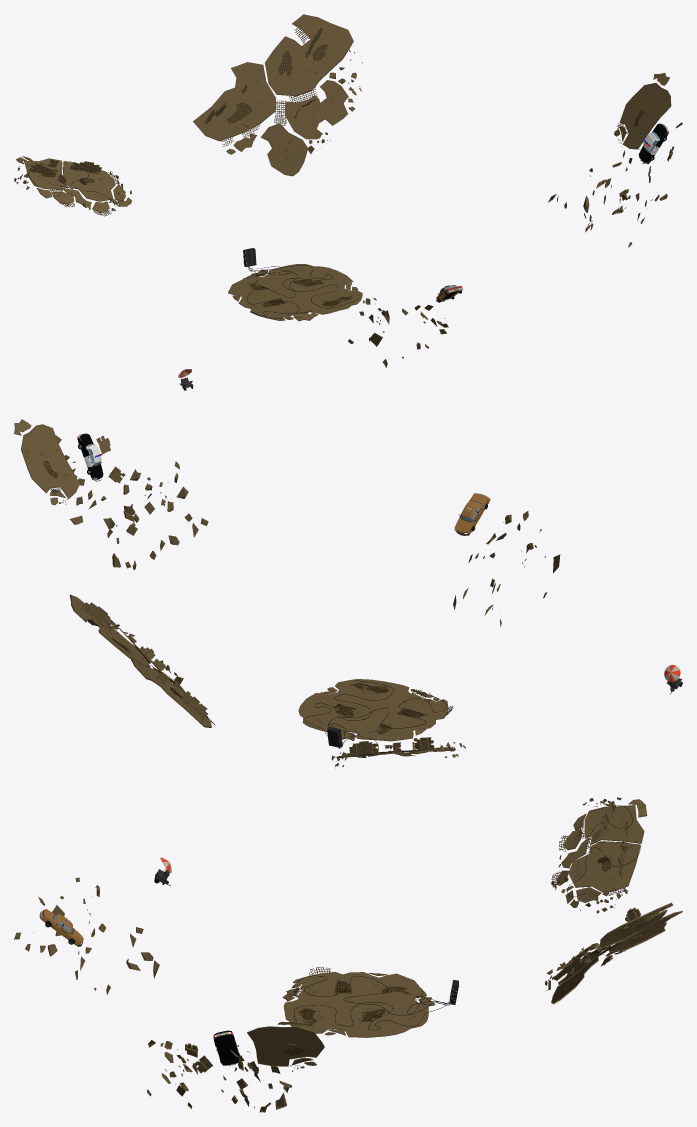
The model's file is scorpion_platform.glb.
The picture shows the model from 3 angles, top to bottom: view 1: azimuth 30°, elevation 25°; view 2: azimuth 150°, elevation 25°; view 3: azimuth 270°, elevation 25°; orthographic projection. The views are drawn at different scales.
Parts seen in each view (by area): view 1: Plane, Plane.001, Plane.002, Plane.161, Plane.003, Plane.012, Plane.005, Cube.024, Cube.018, Popo.001; view 2: Plane, Plane.012, Cube.024, Plane.001, Taxi, Plane.002, Popo.001, Cube.018; view 3: Plane, Plane.161, Plane.012, Cube.024, Cube.018, Plane.001, Plane.002, Taxi, Popo.001, Plane.005, Plane.003.
Part boxes in pixels (<box>): Plane: <box>228,264,362,321</box>; Plane.001: <box>265,14,353,96</box>; Plane.002: <box>193,62,275,141</box>; Plane.161: <box>16,156,131,212</box>; Plane.003: <box>285,80,348,139</box>; Plane.012: <box>619,83,671,149</box>; Plane.005: <box>260,123,307,176</box>; Cube.024: <box>548,122,682,247</box>; Cube.018: <box>348,298,448,367</box>; Popo.001: <box>638,123,669,164</box>; Plane: <box>298,679,448,741</box>; Plane.012: <box>21,424,79,498</box>; Cube.024: <box>55,435,208,569</box>; Plane.001: <box>69,594,150,667</box>; Taxi: <box>454,493,490,535</box>; Plane.002: <box>131,659,211,727</box>; Popo.001: <box>77,433,103,481</box>; Cube.018: <box>453,511,560,627</box>; Plane: <box>282,972,435,1037</box>; Plane.161: <box>556,799,647,907</box>; Plane.012: <box>247,1026,324,1066</box>; Cube.024: <box>147,1040,291,1112</box>; Cube.018: <box>14,877,159,994</box>; Plane.001: <box>598,902,673,947</box>; Plane.002: <box>608,911,682,952</box>; Taxi: <box>39,909,83,946</box>; Popo.001: <box>213,1030,240,1065</box>; Plane.005: <box>551,956,598,1004</box>; Plane.003: <box>553,945,603,984</box>.
Bounding box in the file's own units: 68.5 × 19.75 × 60.2.
